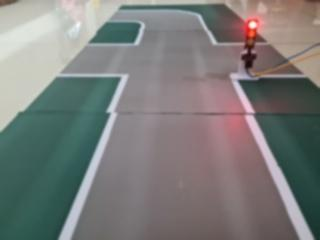red: (237, 13, 261, 66)
